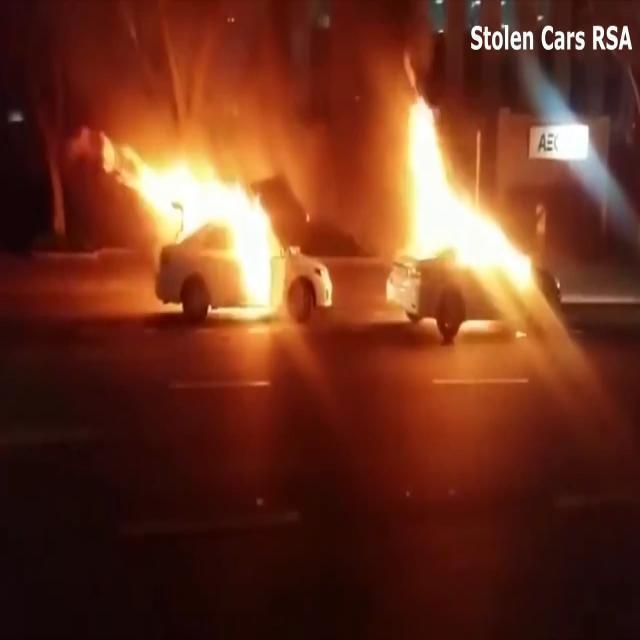fire: (74, 104, 288, 320), (401, 88, 535, 284)
